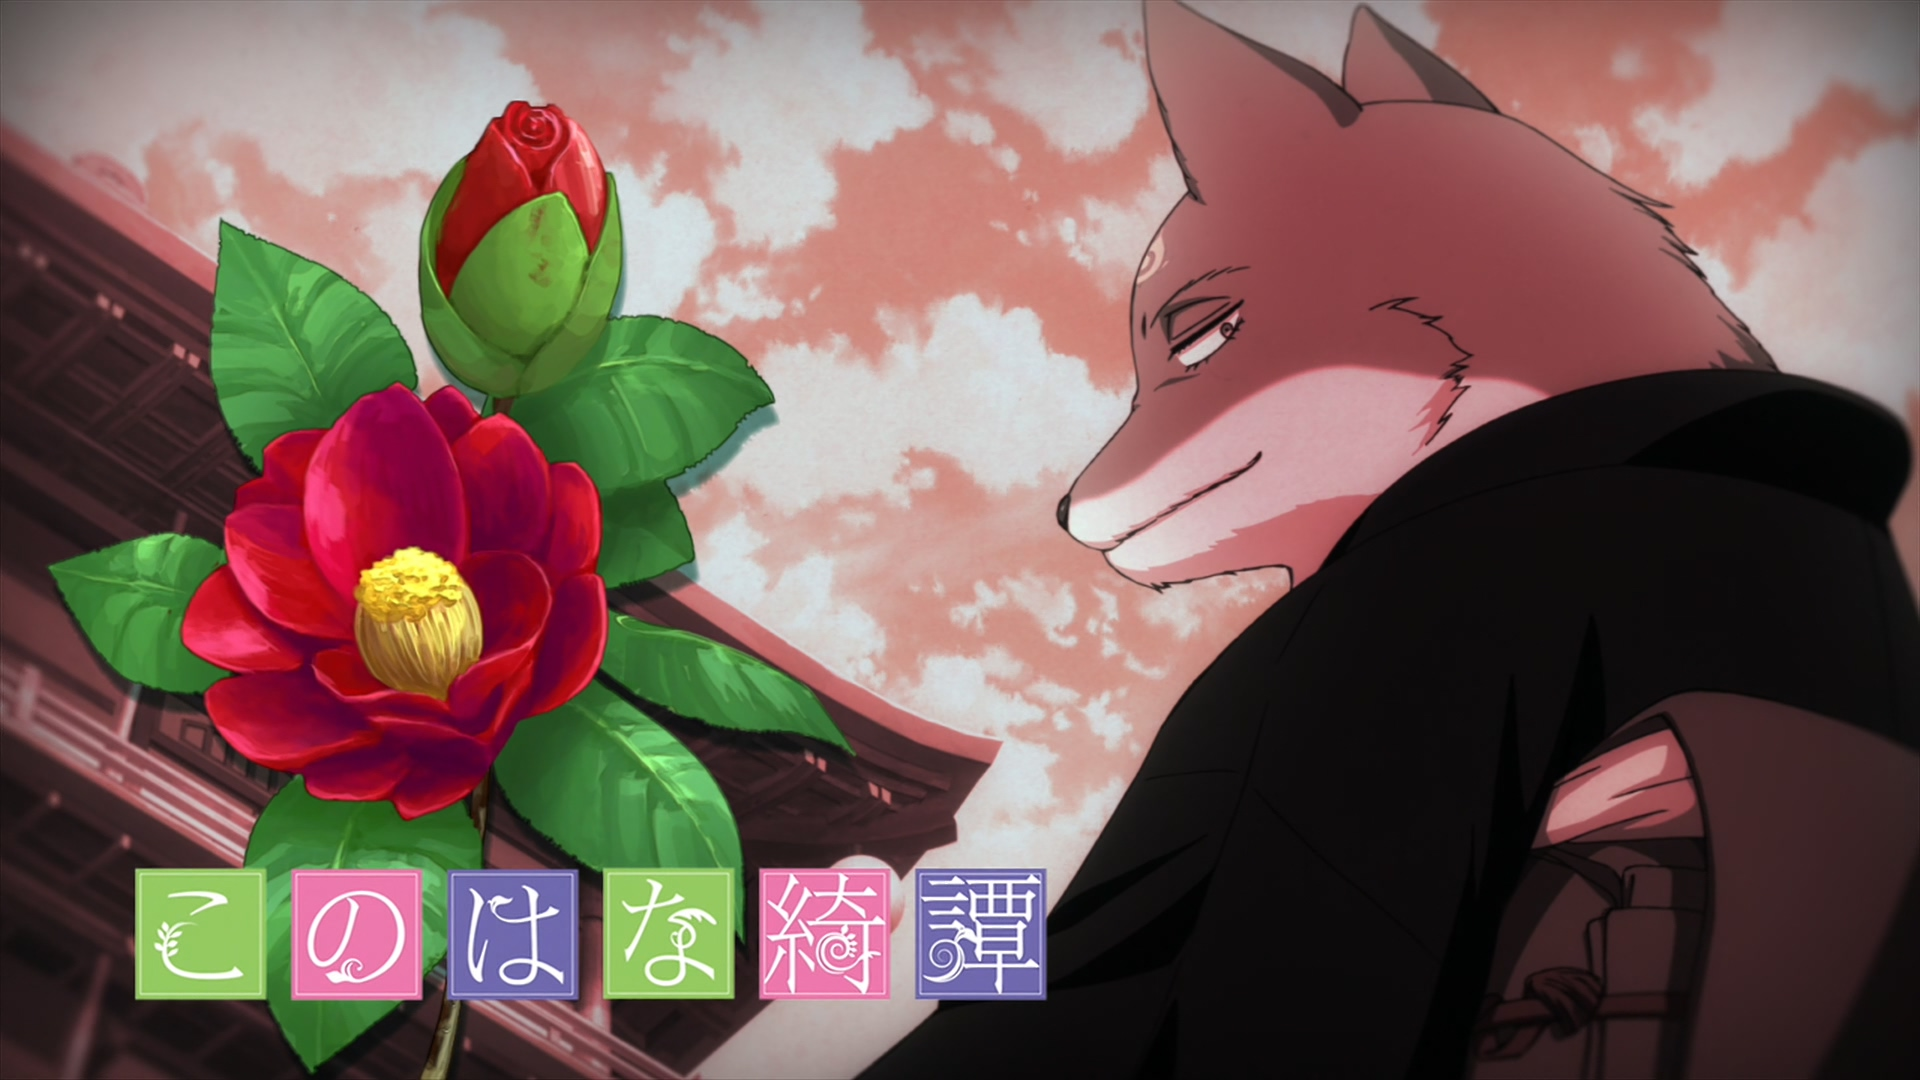椿: (855, 1, 1920, 1080)
